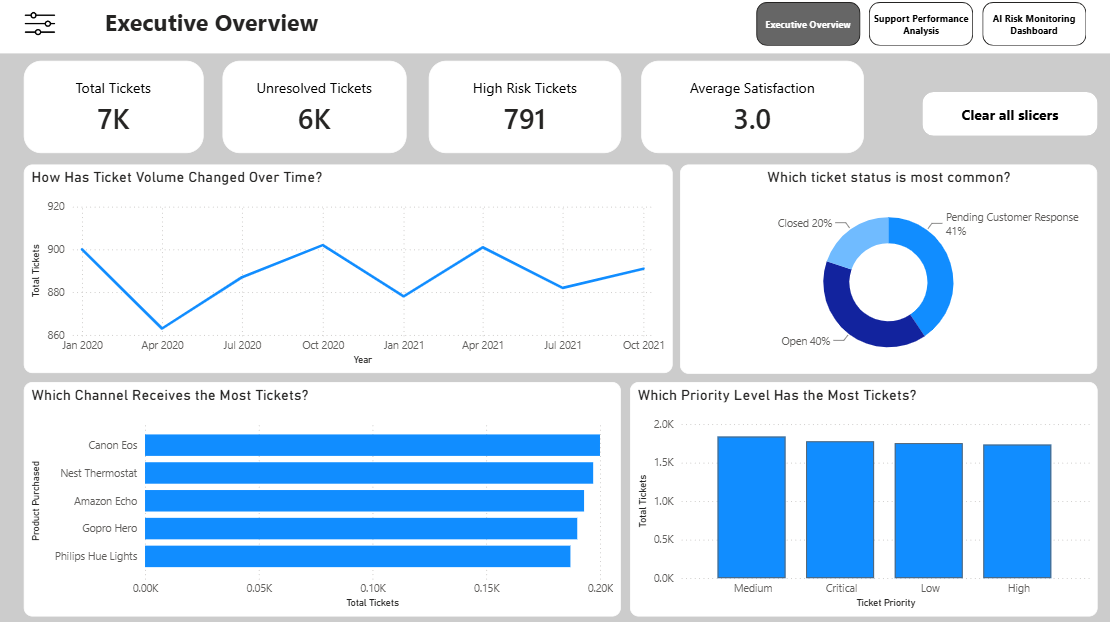

This screenshot's page, from the dashboard's own definition file:
{"tool":"powerbi","page":{"name":"Executive Overview","canvas":[1280,720],"ordinal":0},"visuals":[{"type":"shape","box":[0,0,1280,720],"z":0},{"type":"shape","box":[0,0,1280,64.4],"z":500},{"type":"textbox","box":[91.1,5.6,312.2,50],"z":1000},{"type":"donutChart","title":"Which ticket status is most common?","fields":{"Y":["CountNonNull(support_tickets_ai_ready.ticket_id)"],"Category":["support_tickets_ai_ready.ticket_status"]},"box":[783.3,191.1,476.7,238.9],"z":2000},{"type":"columnChart","title":"\tWhich Priority Level Has the Most Tickets?","fields":{"Category":["support_tickets_ai_ready.ticket_priority"],"Y":["CountNonNull(support_tickets_ai_ready.ticket_id)"]},"box":[725.6,440,534.5,268],"z":3000},{"type":"lineChart","title":"How Has Ticket Volume Changed Over Time?","fields":{"Category":["support_tickets_ai_ready.date_of_purchase.Variation.Date Hierarchy.Year","support_tickets_ai_ready.date_of_purchase.Variation.Date Hierarchy.Quarter","support_tickets_ai_ready.date_of_purchase.Variation.Date Hierarchy.Month","support_tickets_ai_ready.date_of_purchase.Variation.Date Hierarchy.Day"],"Y":["CountNonNull(support_tickets_ai_ready.ticket_id)"]},"box":[33.3,191.1,741.4,238.6],"z":4000},{"type":"barChart","title":"Which Channel Receives the Most Tickets?","fields":{"Y":["CountNonNull(support_tickets_ai_ready.ticket_id)"],"Category":["support_tickets_ai_ready.product_purchased"]},"box":[33.3,440,682.8,268],"z":5000},{"type":"pageNavigator","box":[870,5.6,378.7,51],"z":6000},{"type":"cardVisual","fields":{"Data":["CountNonNull(support_tickets_ai_ready.ticket_id)"]},"box":[32.9,72.9,205.7,105.7],"z":7000},{"type":"cardVisual","fields":{"Data":["support_tickets_ai_ready.Open Tickets"]},"box":[260,72.9,210,105.6],"z":8000},{"type":"cardVisual","fields":{"Data":["support_tickets_ai_ready.High_Risk_Tickets"]},"box":[495.6,72.2,220,105.6],"z":9000},{"type":"cardVisual","fields":{"Data":["support_tickets_ai_ready.Average Satisfaction"]},"box":[738.9,72.2,254.4,105.6],"z":10000},{"type":"actionButton","box":[33.3,5.6,36.7,50],"z":19000},{"type":"actionButton","box":[1060,108.9,200,50],"z":20000}]}

Visuals, with their boxes in screenshot pixels (x1, y1, x2, y2), scaled from the page's 1280x720 canvas onto the 1110x622 screenshot:
shape: select_region(0, 0, 1109, 621)
shape: select_region(0, 0, 1109, 56)
textbox: select_region(79, 5, 350, 48)
"Which ticket status is most common?" donutChart: select_region(679, 165, 1093, 371)
"	Which Priority Level Has the Most Tickets?" columnChart: select_region(629, 380, 1093, 612)
"How Has Ticket Volume Changed Over Time?" lineChart: select_region(29, 165, 672, 371)
"Which Channel Receives the Most Tickets?" barChart: select_region(29, 380, 621, 612)
pageNavigator: select_region(754, 5, 1083, 49)
cardVisual - CountNonNull(support_tickets_ai_ready.ticket_id): select_region(29, 63, 207, 154)
cardVisual - support_tickets_ai_ready.Open Tickets: select_region(225, 63, 408, 154)
cardVisual - support_tickets_ai_ready.High_Risk_Tickets: select_region(430, 62, 621, 154)
cardVisual - support_tickets_ai_ready.Average Satisfaction: select_region(641, 62, 861, 154)
actionButton: select_region(29, 5, 61, 48)
actionButton: select_region(919, 94, 1093, 137)
